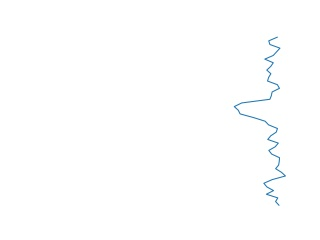interdistributaryEstuary: (230, 37, 289, 208)
